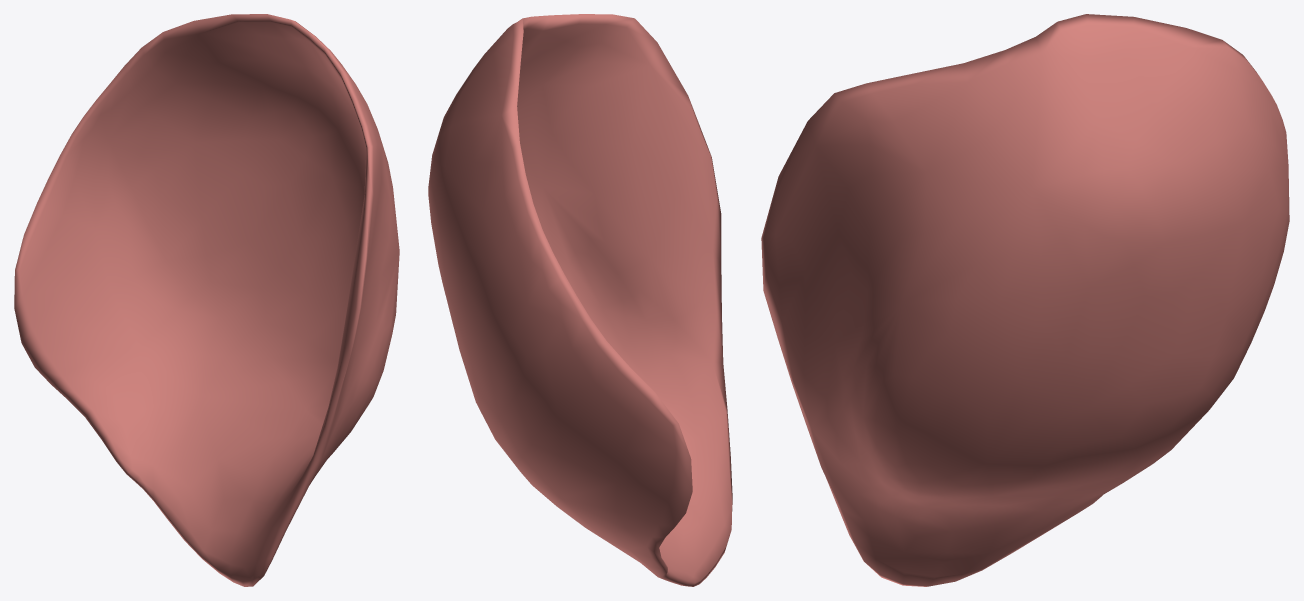
3 views of the same model, side by side, from view 1: azimuth 30°, elevation 25°; view 2: azimuth 150°, elevation 25°; view 3: azimuth 270°, elevation 25° (orthographic). The views are drawn at different scales.
Parts seen in each view (by area): view 1: ZA_146253449ebe1a9a; view 2: ZA_146253449ebe1a9a; view 3: ZA_146253449ebe1a9a.
Boxes of the visible parts, bbox=[...] form: ZA_146253449ebe1a9a: bbox=[14, 14, 399, 586]; ZA_146253449ebe1a9a: bbox=[428, 14, 732, 586]; ZA_146253449ebe1a9a: bbox=[761, 14, 1289, 586].
Size of the model in its own units: 0.0148 by 0.0249 by 0.0188.
